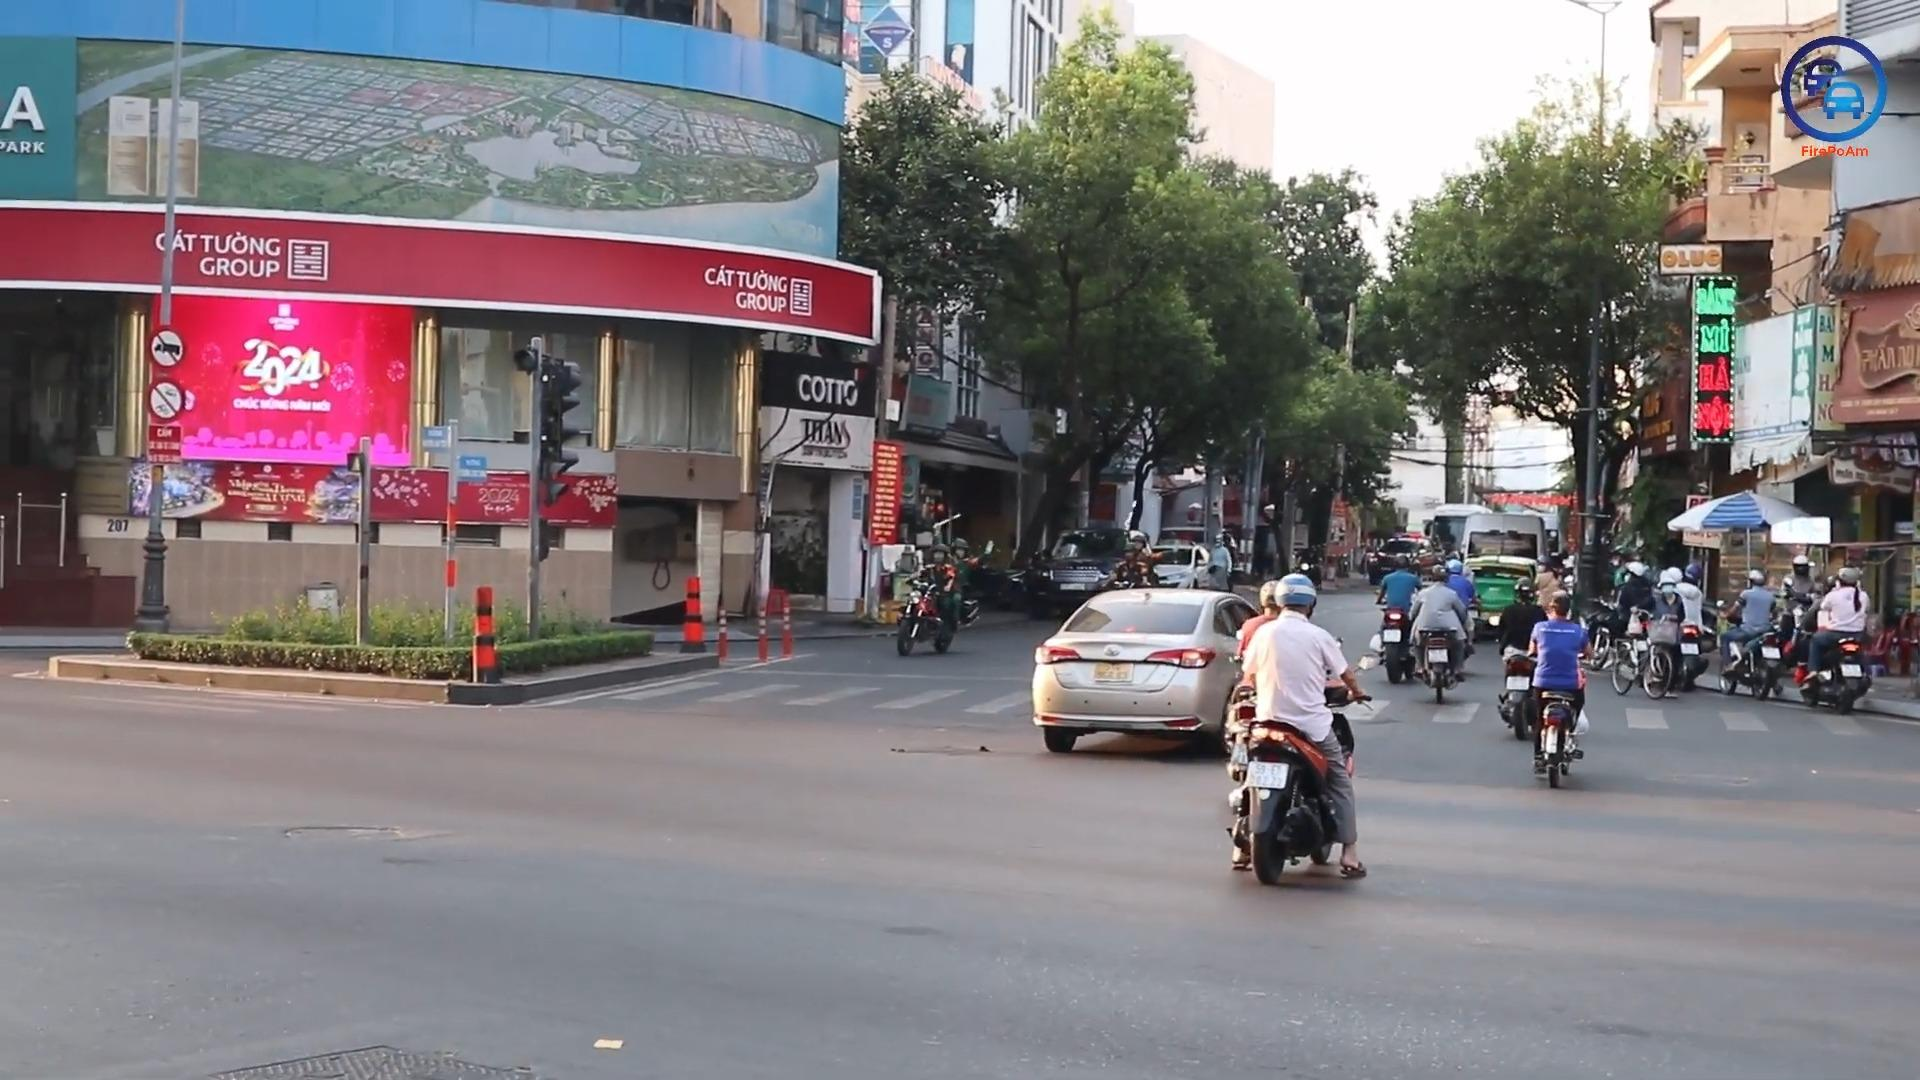bien_so: (1244, 761, 1292, 790), (1092, 660, 1136, 683), (1839, 661, 1865, 678), (1504, 675, 1531, 691), (1427, 648, 1448, 663), (1761, 645, 1781, 659), (1679, 642, 1699, 656), (1383, 629, 1402, 643)
